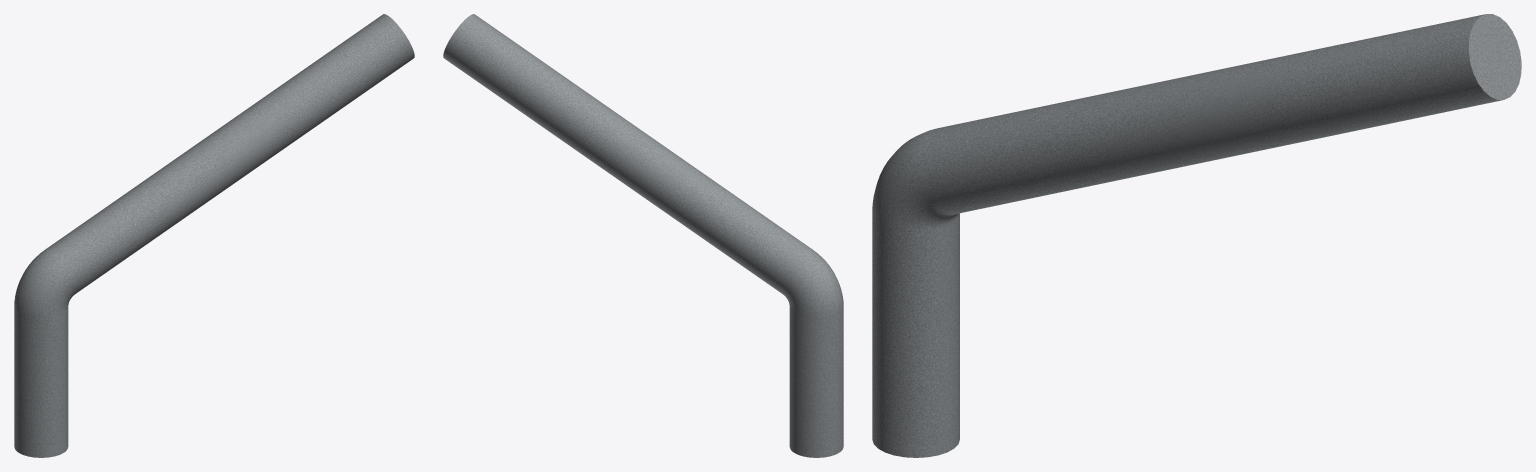
Rendered from original-25.obj.
The picture shows the model from 3 angles, left to right: view 1: azimuth 30°, elevation 25°; view 2: azimuth 150°, elevation 25°; view 3: azimuth 330°, elevation 25°; orthographic projection. The views are drawn at different scales.
Parts seen in each view (by area): view 1: group_14/ID171#ID171; view 2: group_14/ID171#ID171; view 3: group_14/ID171#ID171.
Part boxes in pixels (x1,y1,x2,y2): group_14/ID171#ID171: (14, 14, 414, 457); group_14/ID171#ID171: (443, 14, 843, 457); group_14/ID171#ID171: (872, 14, 1521, 457).
Bounding box in the file's own units: 0.3041 × 0.2576 × 0.0366.
